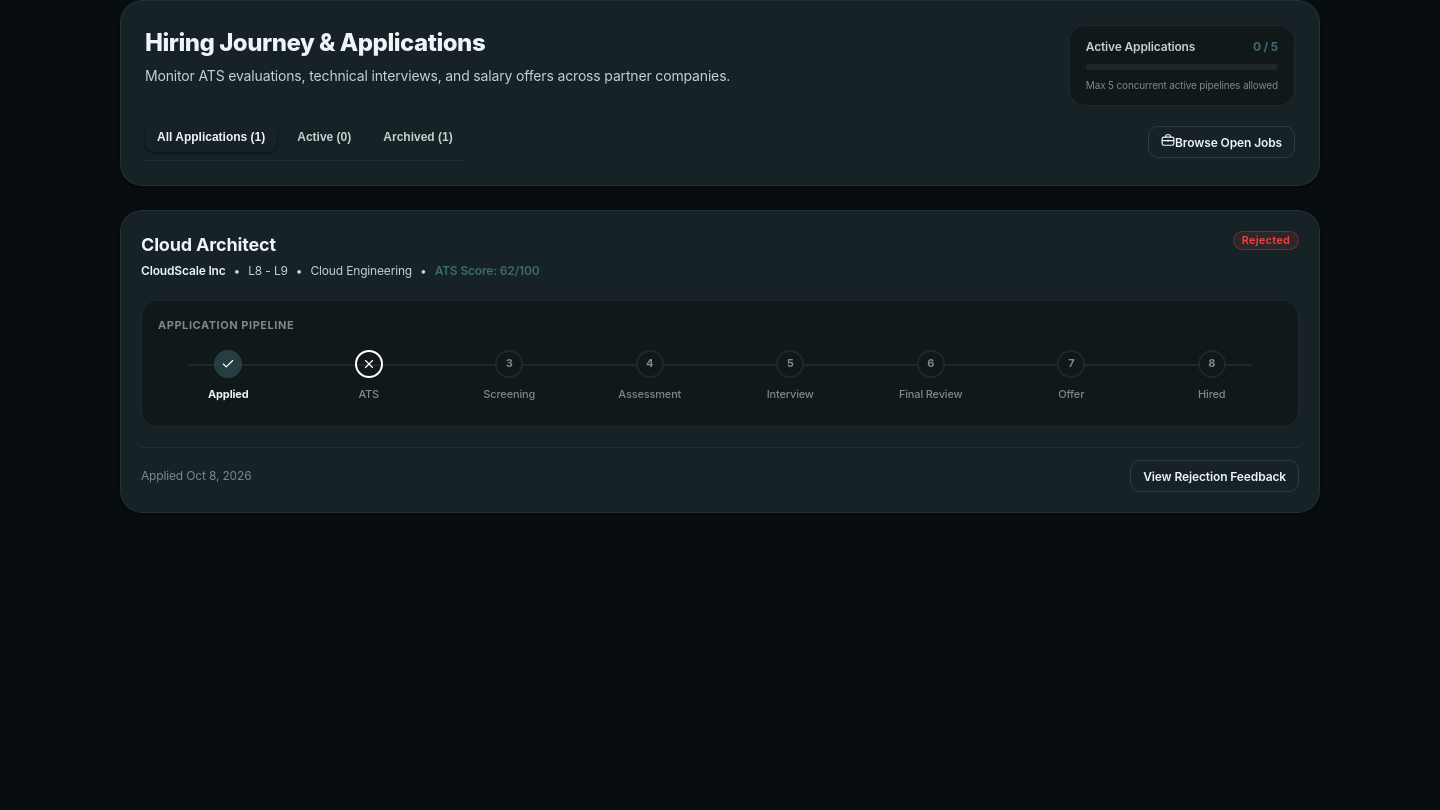
Test: Hiring Journey Frontend Suite (TASK P6.7) › 1. Applications Tracker Page (/applications) › opens rejection feedback modal when viewing feedback for rejected application
Step 1. Click the button with test id "view-feedback-btn" → click(1215, 476), box 1130,460 -> 1299,492
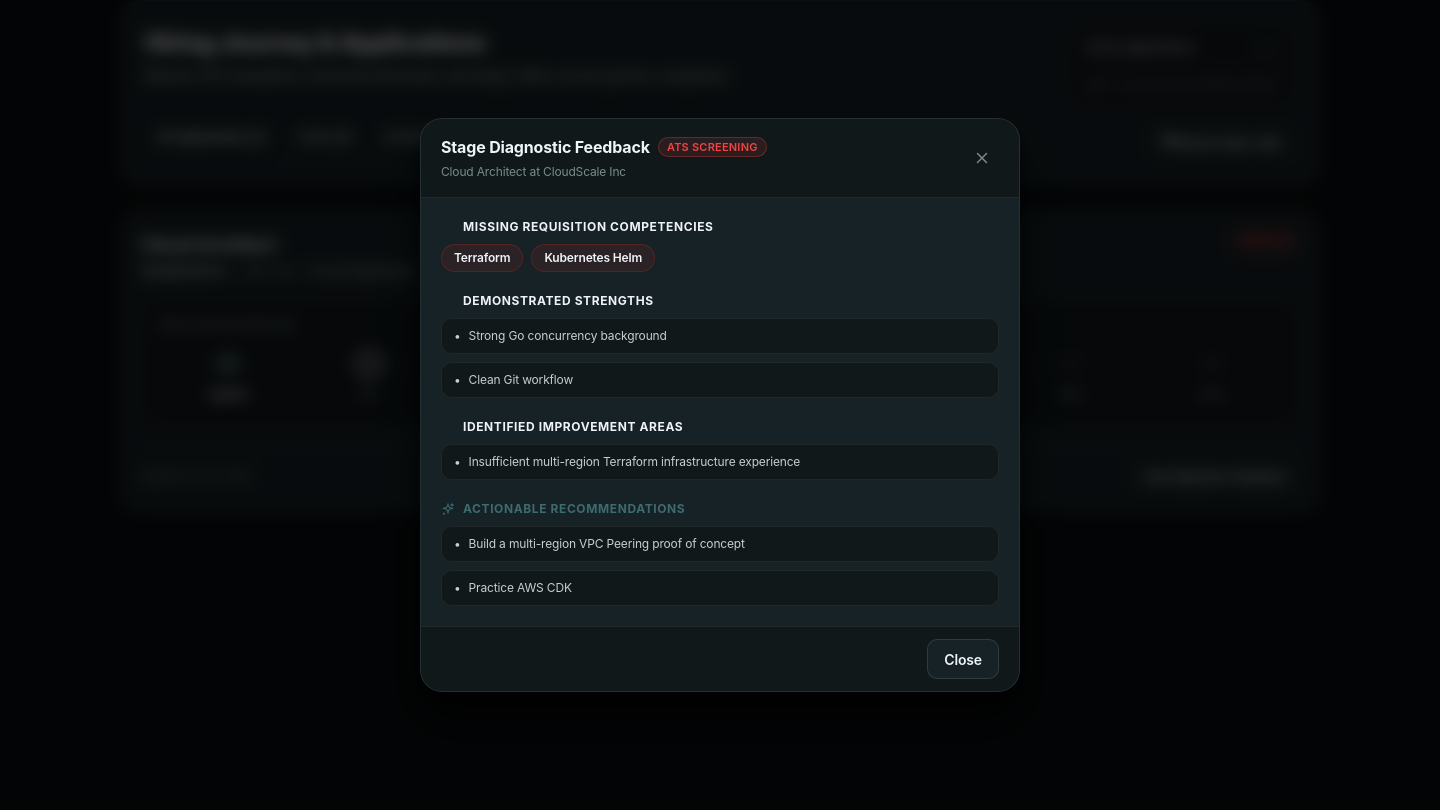
Check: the dialog with test id "feedback-modal" is shown
Check: the element with test id "feedback-missing-skills" is shown, box 441,219 -> 714,272
Check: the text "Terraform" is shown, box 441,244 -> 523,272
